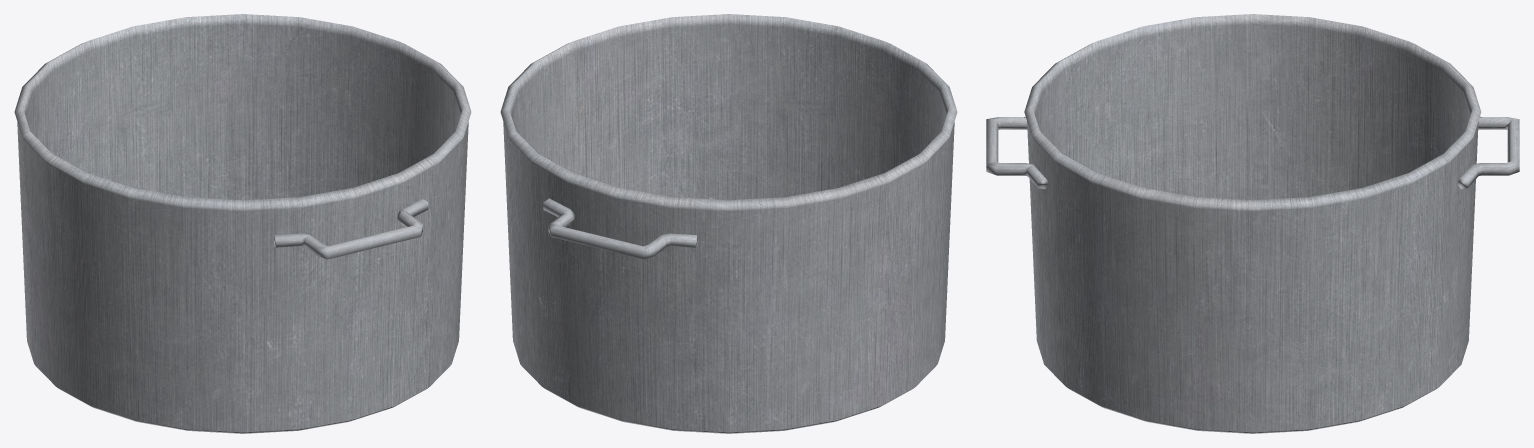
File: SM_KitchenwareG.FBX
The picture shows the model from 3 angles, left to right: view 1: azimuth 30°, elevation 25°; view 2: azimuth 150°, elevation 25°; view 3: azimuth 270°, elevation 25°; orthographic projection.
Parts seen in each view (by area): view 1: SM_KitchenwareG; view 2: SM_KitchenwareG; view 3: SM_KitchenwareG.
Boxes of the visible parts, x1=… form: SM_KitchenwareG: x1=14, y1=14, x2=471, y2=433; SM_KitchenwareG: x1=500, y1=14, x2=957, y2=433; SM_KitchenwareG: x1=986, y1=14, x2=1519, y2=433.
Bounding box in the file's own units: 30.3 × 17.35 × 35.38.
